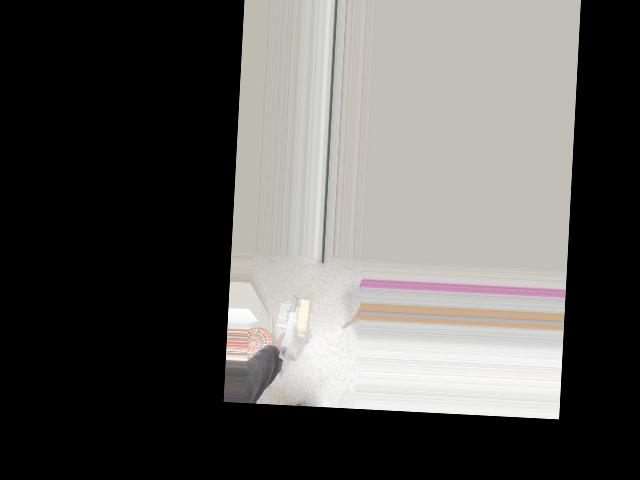cheese: (279, 295, 312, 360)
